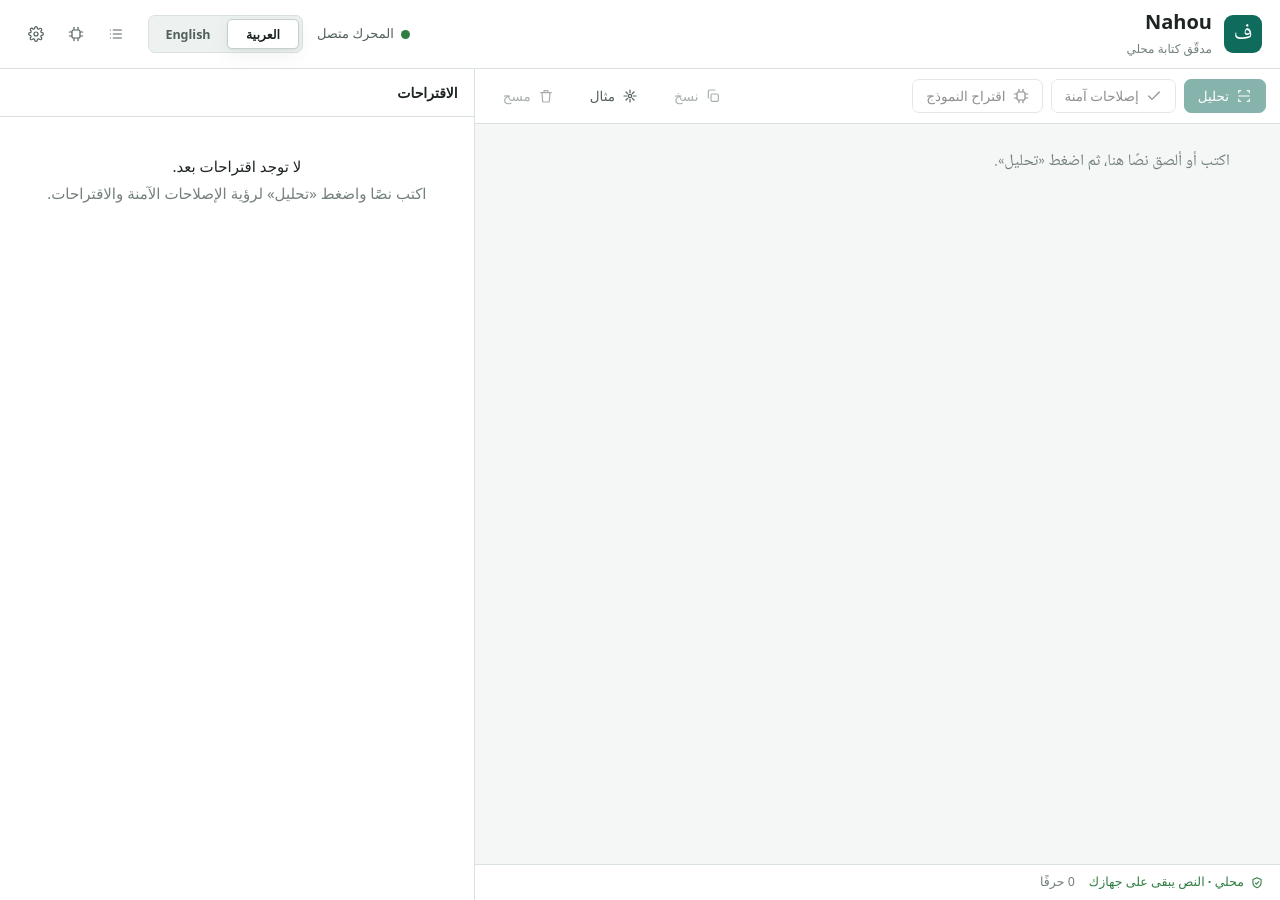
Test: local LLM status panel › renders the suggestion-only / no-bundled-weights policy
Click the button named "النموذج المحلي": point(76, 34) [58,16,94,52]
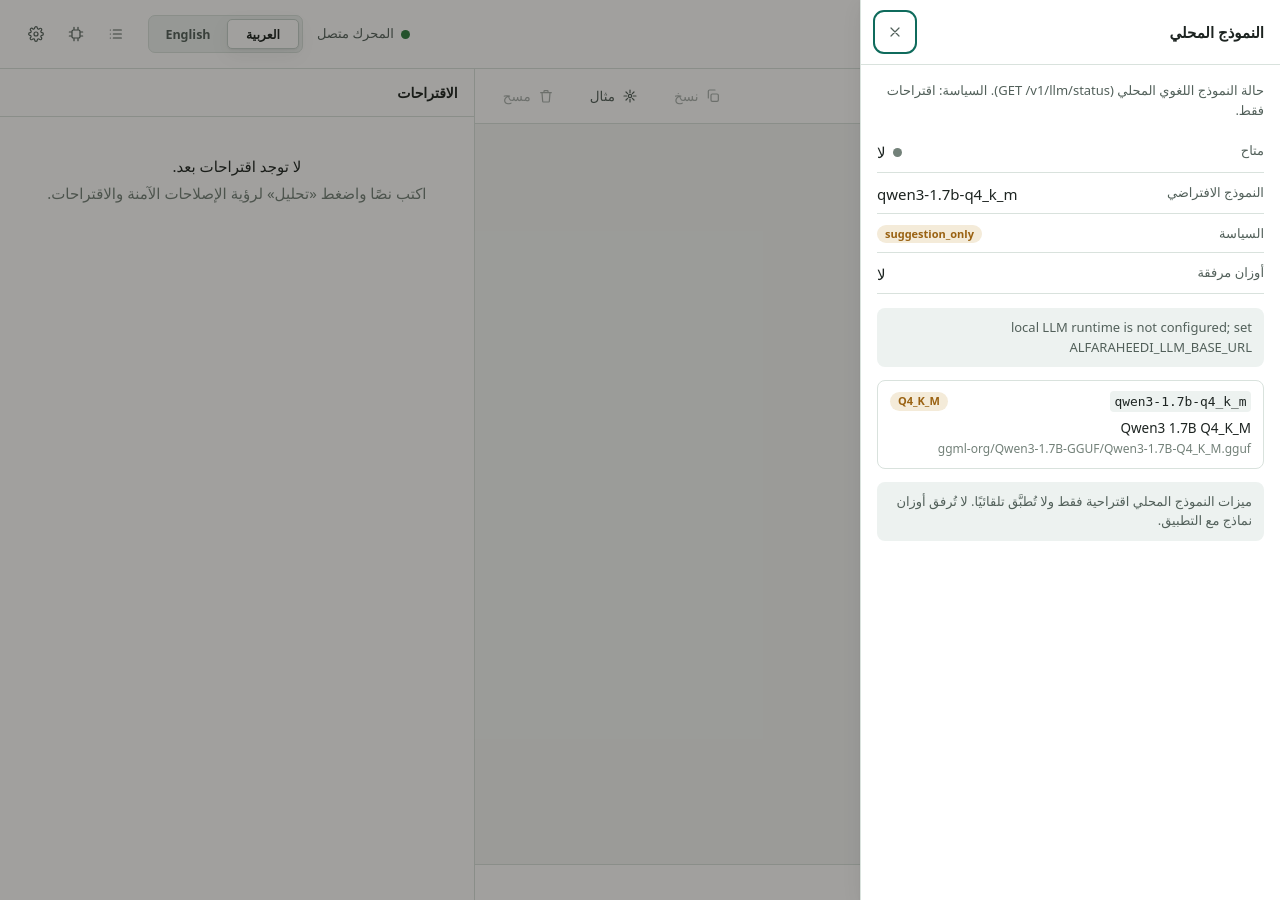
Now the element with test id "llm-panel" is shown, box [877,81,1264,541]
Now the text "اقتراحية فقط ولا تُطبَّق تلقائيًا" is shown, box [896,492,1252,529]
